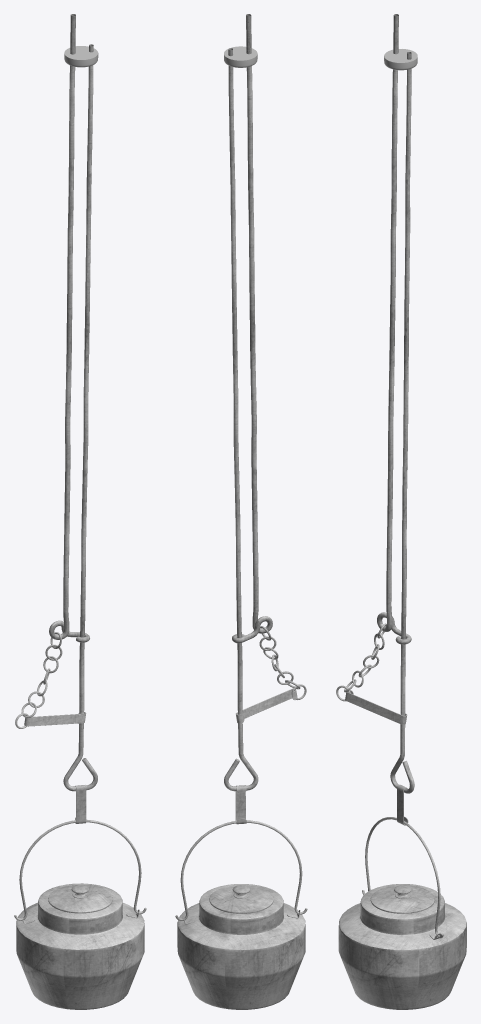
The picture shows the model from 3 angles, left to right: view 1: azimuth 30°, elevation 25°; view 2: azimuth 210°, elevation 25°; view 3: azimuth 330°, elevation 25°; orthographic projection.
Parts seen in each view (by area): view 1: XD-吊壶; view 2: XD-吊壶; view 3: XD-吊壶.
Part boxes in pixels (x1=…): XD-吊壶: x1=14, y1=14, x2=146, y2=1009; XD-吊壶: x1=175, y1=14, x2=307, y2=1009; XD-吊壶: x1=336, y1=14, x2=466, y2=1009.
Size of the model in its own units: 0.2642 by 0.242 by 2.02.
